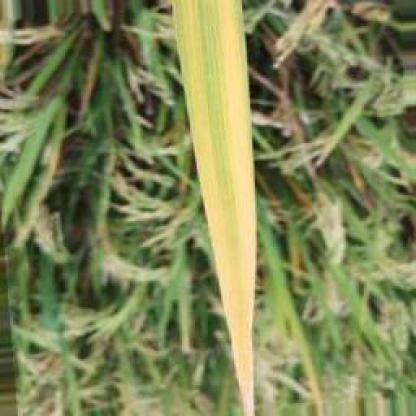Tungro: (172, 3, 271, 416)
